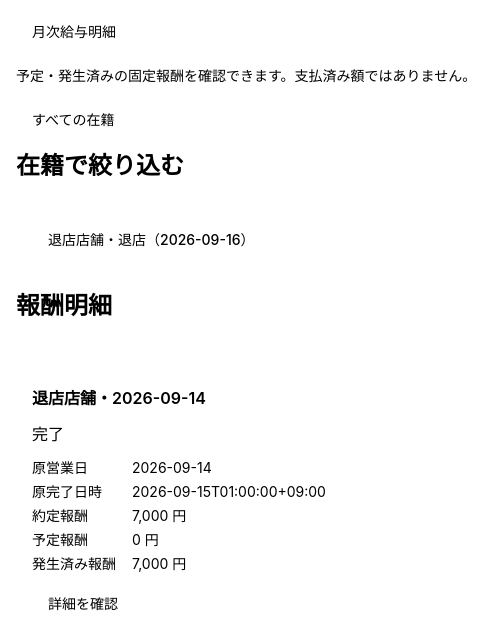
Test: refuses to display stale private data when details are forbidden
The image size is (485, 639).
Click the button "詳細を確認" at (83, 604), box [32,586,134,622]
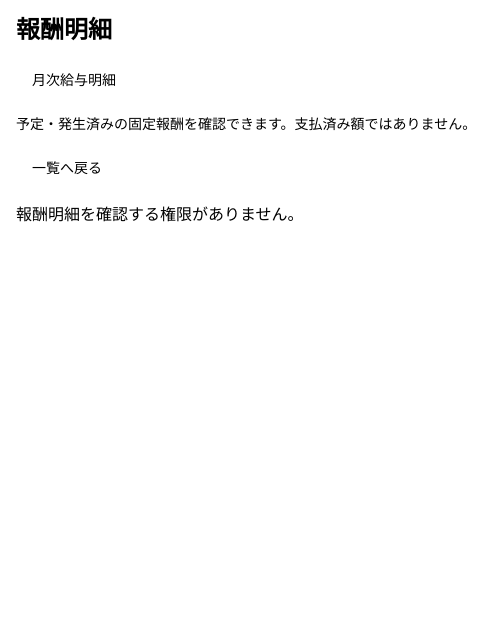
Check: the text "報酬明細を確認する権限がありません。" is shown, box [16,204,304,224]
